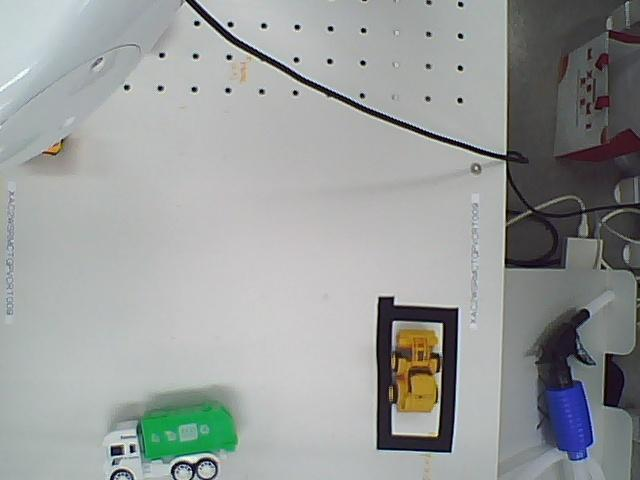Electric car: (100, 400, 240, 480)
Gasoline car: (387, 325, 446, 416)
